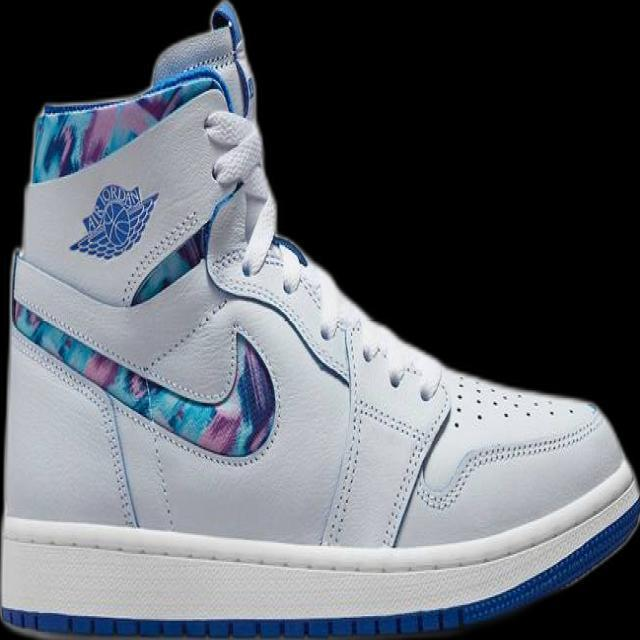J1_InsoleChar: (0, 0, 639, 639)
J1_ShoeLogo: (68, 182, 159, 261)
J1_StitchPattern: (9, 233, 605, 551), (208, 232, 448, 547), (9, 293, 280, 462), (318, 322, 447, 548), (11, 328, 141, 528), (206, 234, 355, 382), (414, 409, 605, 513), (319, 321, 365, 547), (119, 206, 204, 304), (380, 427, 430, 548), (454, 375, 559, 424)
